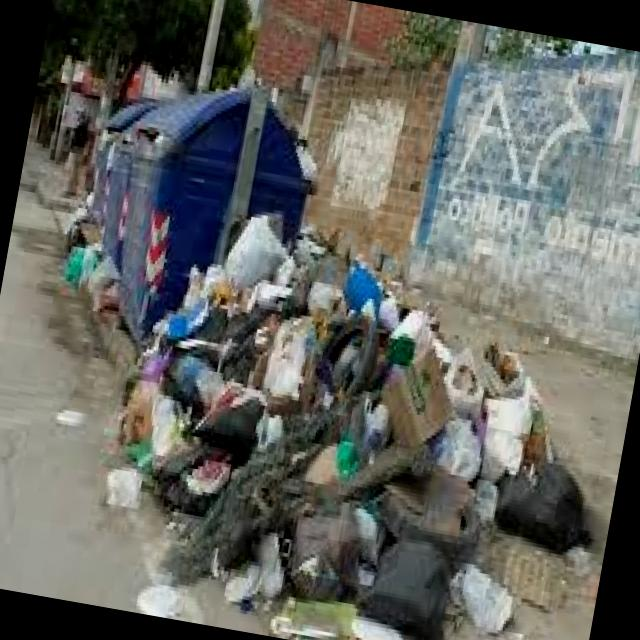garbage: (86, 186, 640, 640)
